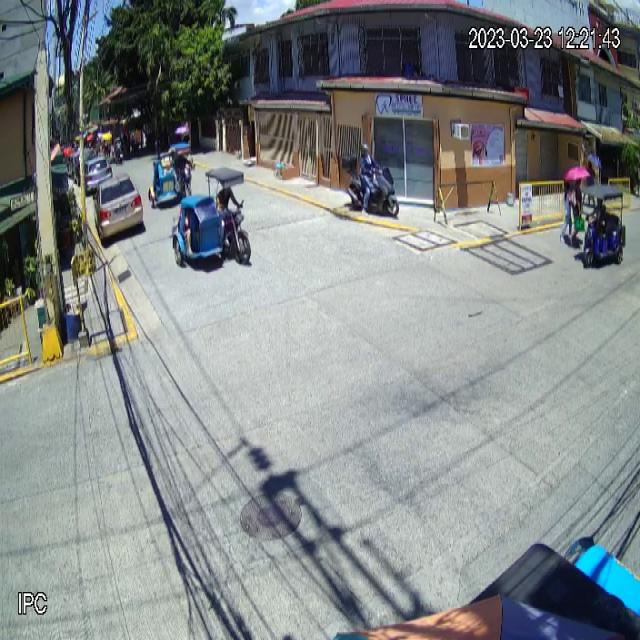Motorcycle: (339, 150, 398, 217)
Tricycle: (170, 163, 251, 272)
